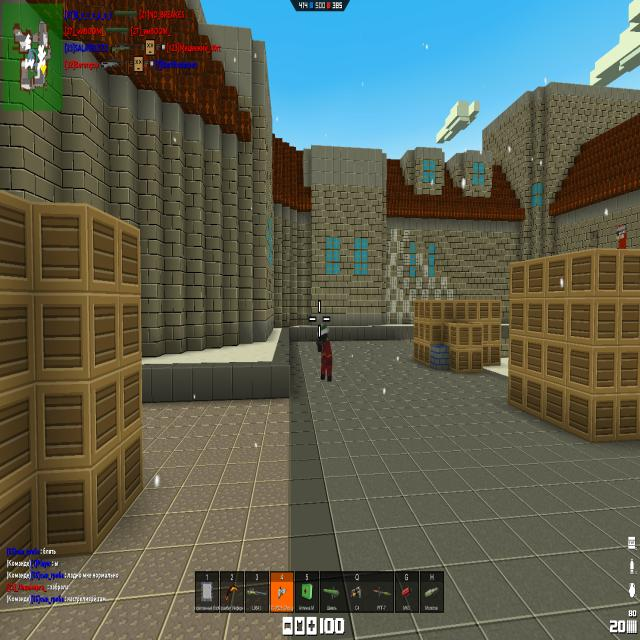player: (317, 324, 332, 384)
